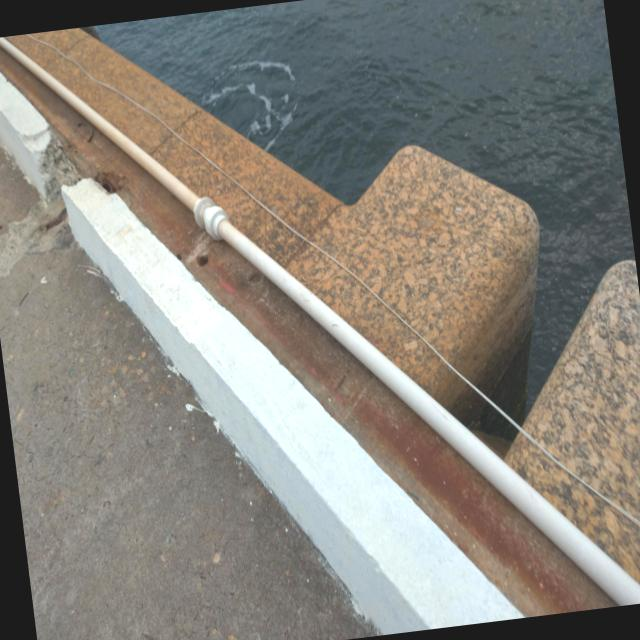gas: (0, 36, 640, 604)
